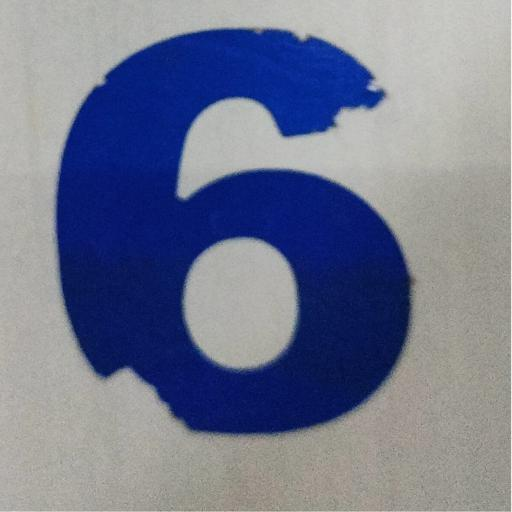stain: (51, 22, 414, 444)
